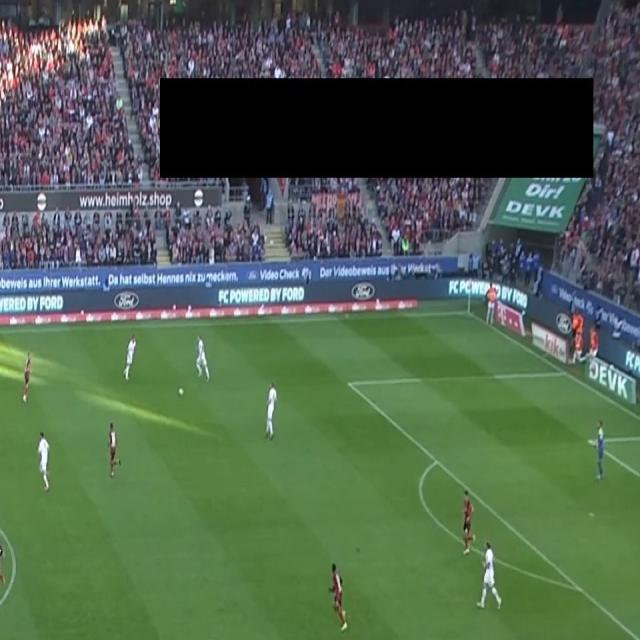ball: (178, 386, 184, 396)
